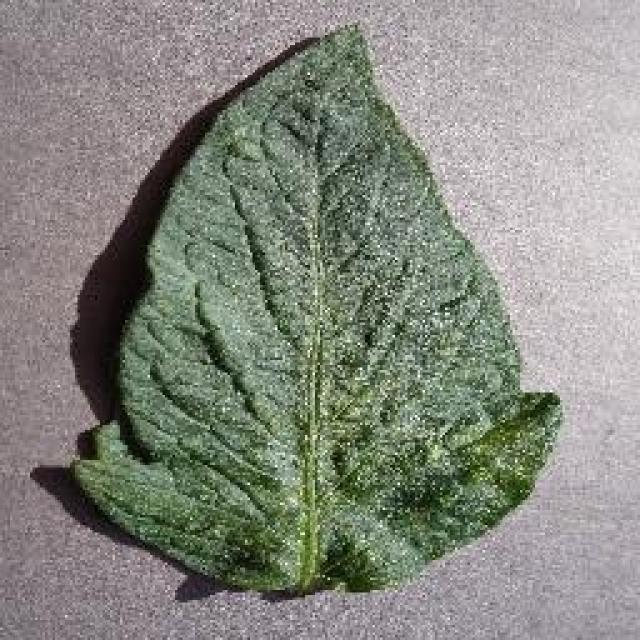Tomato mosaic virus leaf: (69, 15, 566, 600)
